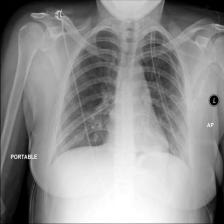normal: (50, 23, 195, 173)
